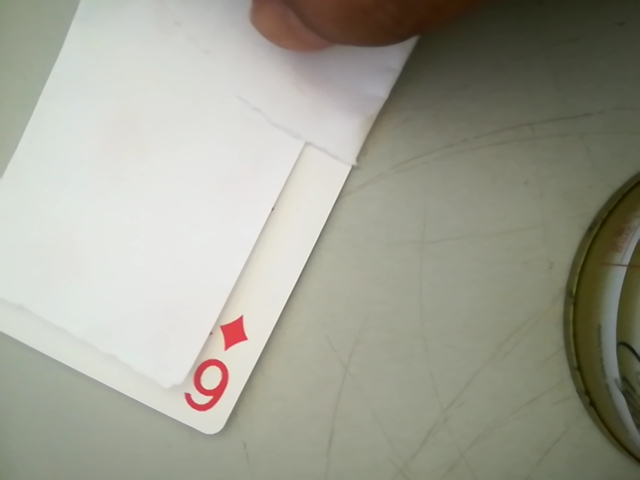fk 6: (177, 306, 255, 425)
